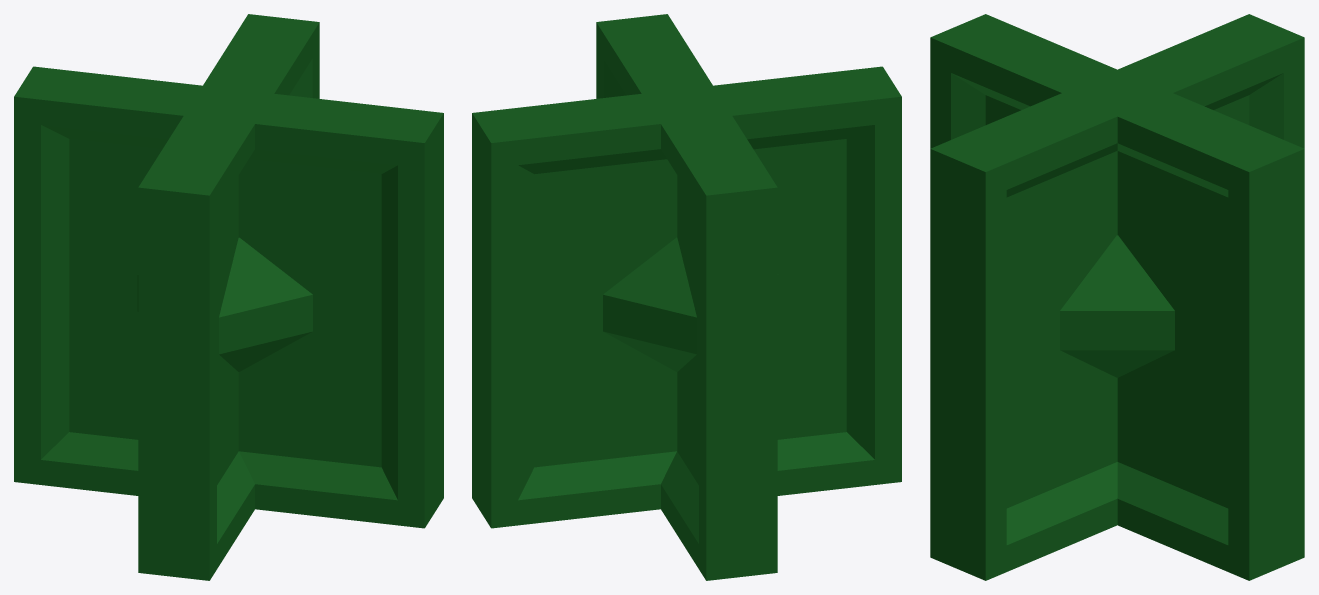
The model's file is tesseract.glb.
3 views of the same model, side by side, from view 1: azimuth 30°, elevation 25°; view 2: azimuth 150°, elevation 25°; view 3: azimuth 270°, elevation 25° (orthographic). The views are drawn at different scales.
Parts seen in each view (by area): view 1: tesseract; view 2: tesseract; view 3: tesseract.
Boxes of the visible parts, box(x1,y1,x2,y2) form: tesseract: box(14, 14, 443, 580); tesseract: box(472, 14, 901, 580); tesseract: box(930, 14, 1304, 580).
Size of the model in its own units: 9.55 by 11.5 by 9.55.
